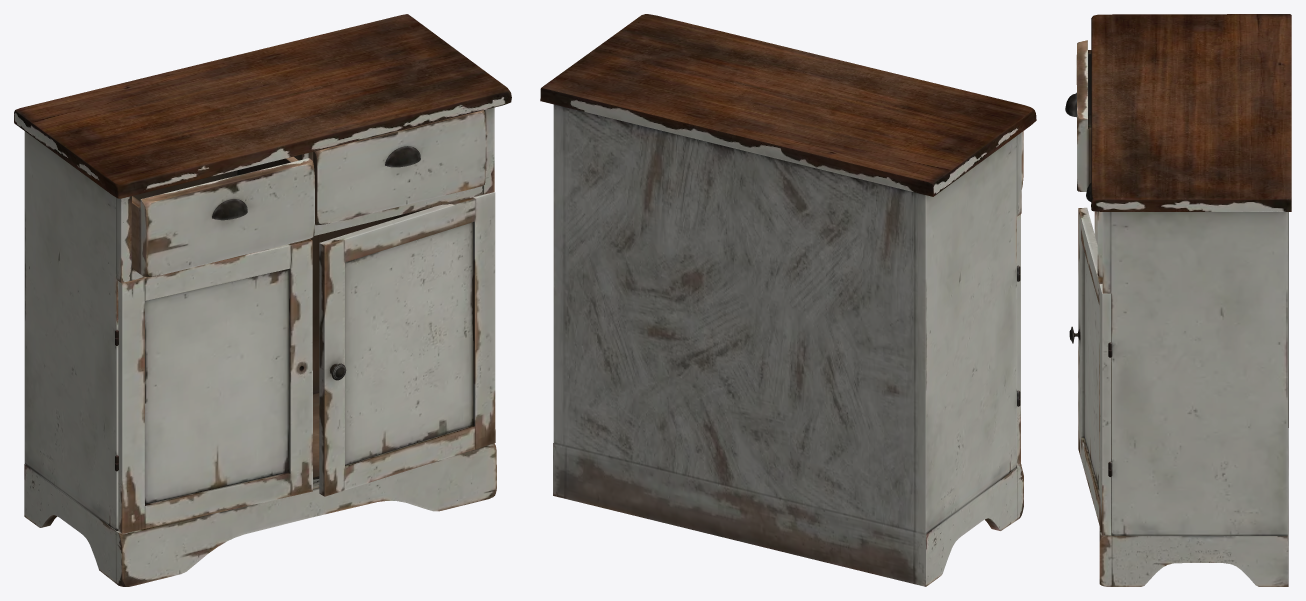
The model's file is painted_wooden_cabinet.glb.
3 views of the same model, side by side, from view 1: azimuth 30°, elevation 25°; view 2: azimuth 150°, elevation 25°; view 3: azimuth 270°, elevation 25° (orthographic). The views are drawn at different scales.
Parts seen in each view (by area): view 1: painted_wooden_cabinet; view 2: painted_wooden_cabinet; view 3: painted_wooden_cabinet.
Boxes of the visible parts, x1,y1,x2,y2 form: painted_wooden_cabinet: (14, 14, 511, 586); painted_wooden_cabinet: (540, 14, 1036, 586); painted_wooden_cabinet: (1065, 14, 1291, 586).
Bounding box in the file's own units: 1.19 × 1.18 × 0.6167.
1 material, 1 textured.
